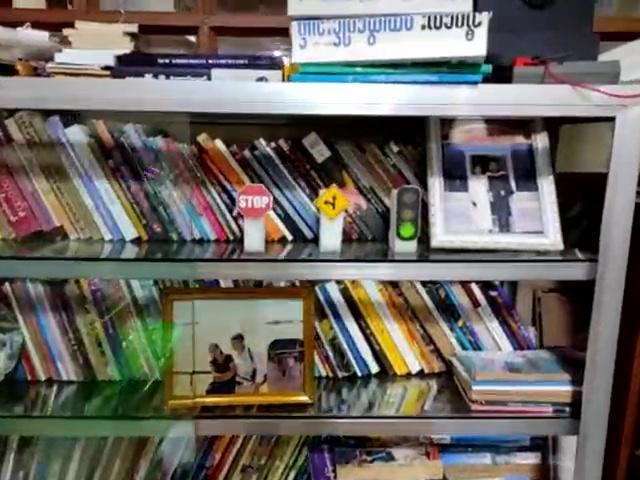Green Traffic Light: (393, 185, 422, 241)
Stop Sign: (238, 184, 275, 217)
Straight Or Left Sign: (314, 184, 353, 222)
